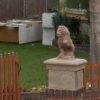Statue: (46, 21, 85, 66)
